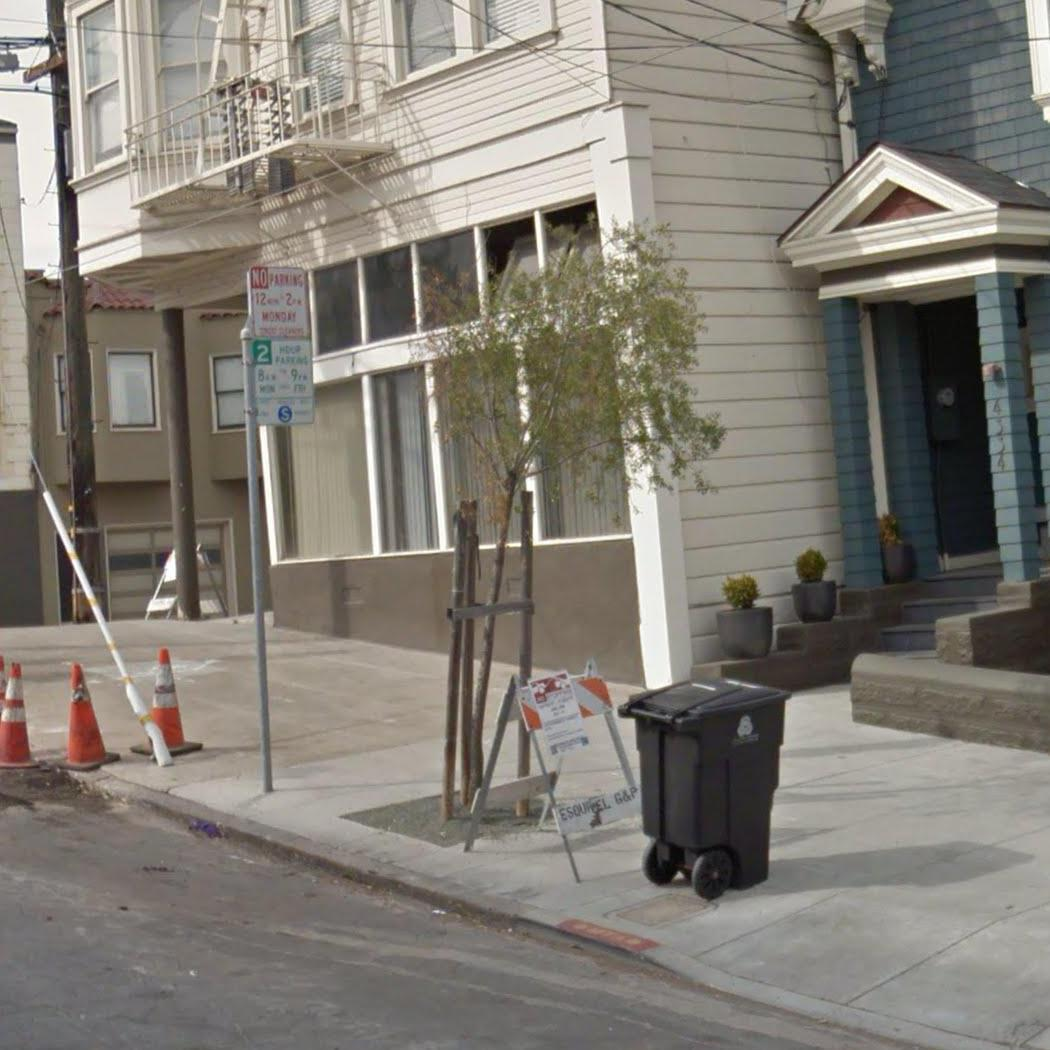2 Hour Parking: (248, 337, 318, 427), (307, 275, 317, 283)
No Parking: (245, 263, 311, 340)
